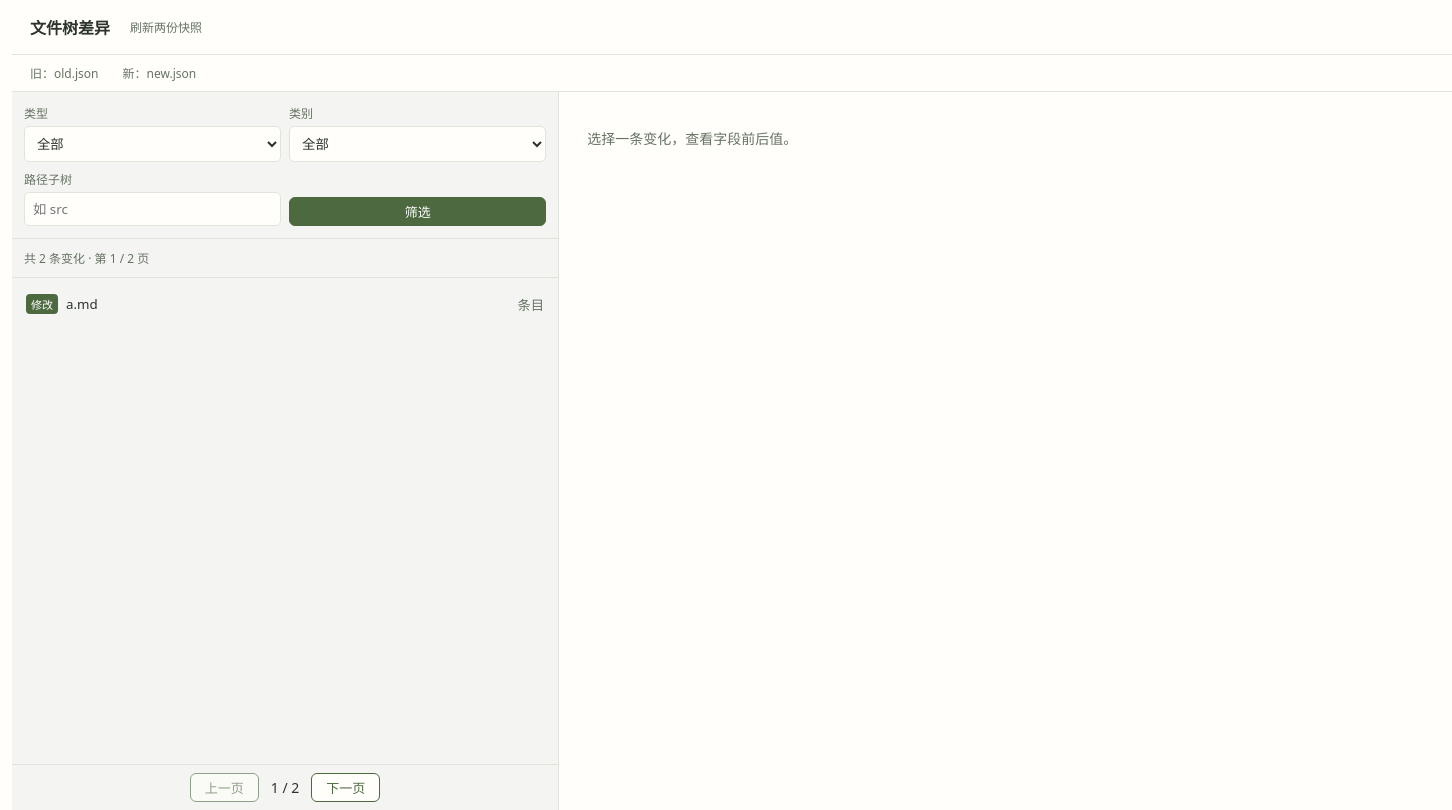
Test: DiffViewer › shows an empty result without a zero-page label after filtering
Expected: the button "修改 a.md 条目" is shown, [18,284,552,324]
Step 1. Select "新增" in the dropdown named "变化类型" → (153, 144), box [24,126,281,162]
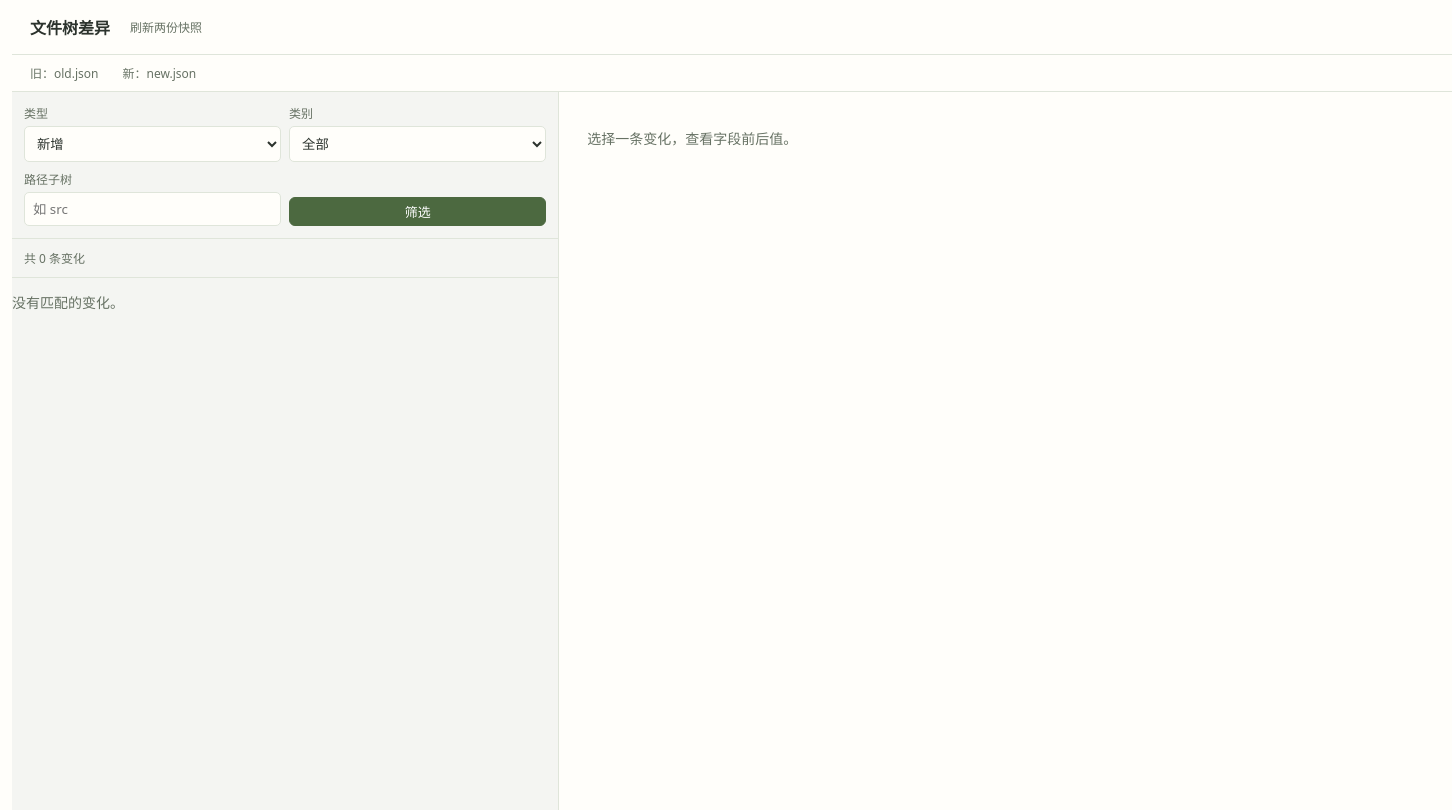
Expected: the text "共 0 条变化" is shown, [12,239,558,278]
Expected: the text "没有匹配的变化。" is shown, [12,293,124,312]
